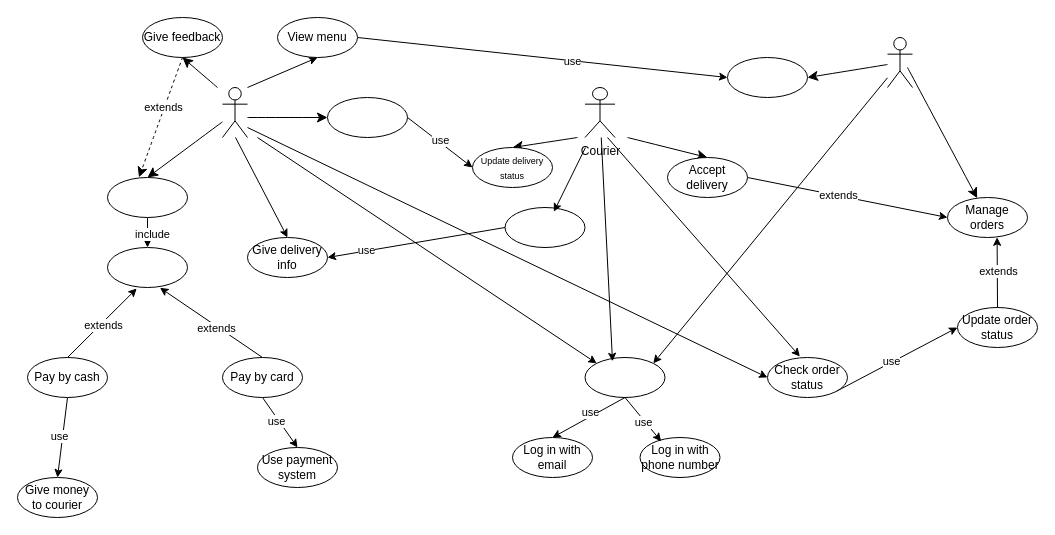
This 1055x535 diagram has some shape labels left out. Each missing label, with the centre of its shape:
Customer: the point at 235,112
Get delivery info: the point at 544,227
Log in: the point at 624,377
Make order: the point at 147,197
Manage menu: the point at 767,77
Pay for order: the point at 147,267
Restaurant staff: the point at 899,62
Track delivery: the point at 367,117
